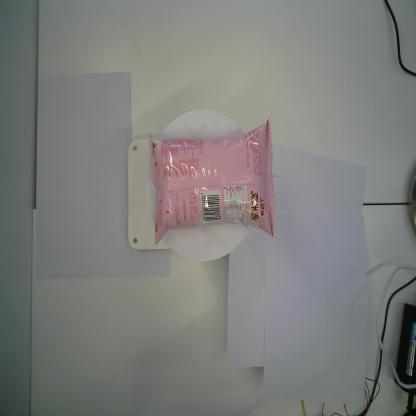Puffed Food: (148, 116, 277, 246)
